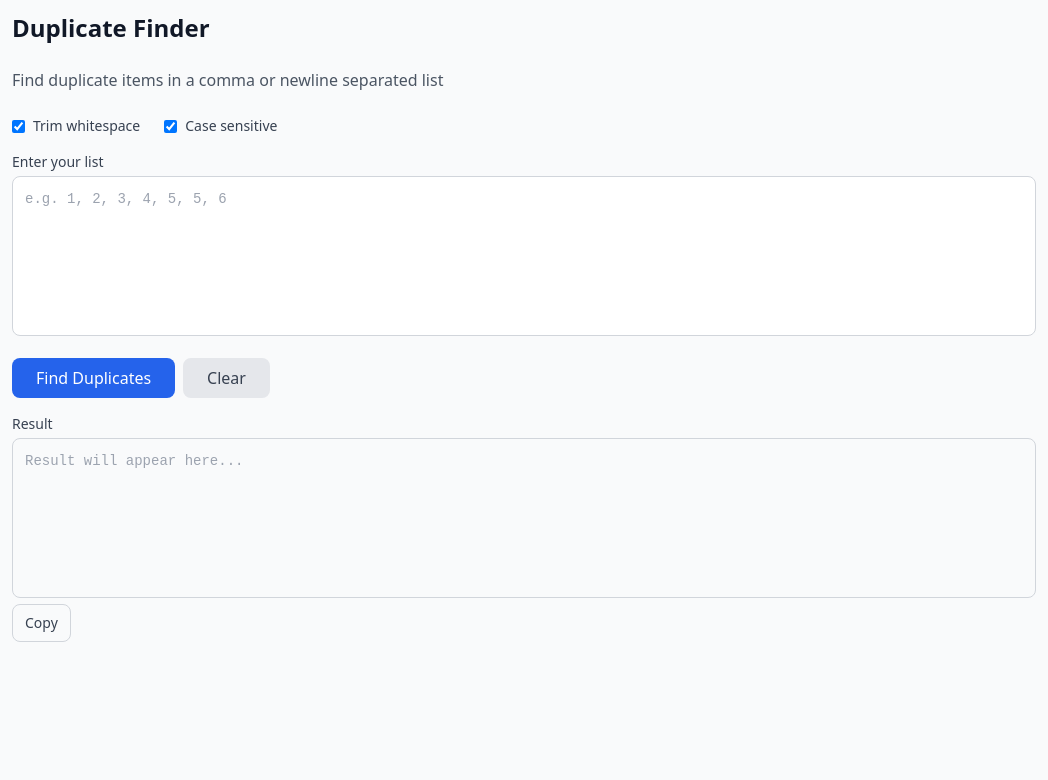
Test: DuplicateFinder › clear button resets input and output
Type "1, 1, 2" into the text box labelled "Enter your list" at point(524, 256), box [12,176,1036,336]
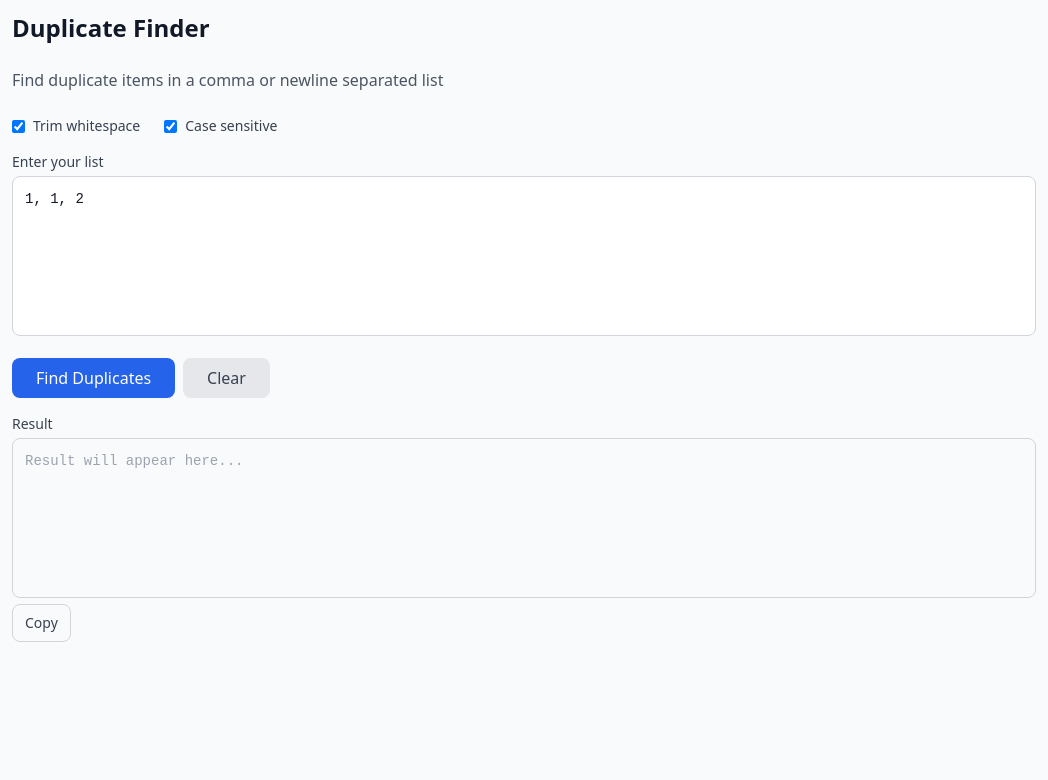
Click the button "Find Duplicates" at point(94, 378), box [12,358,175,398]
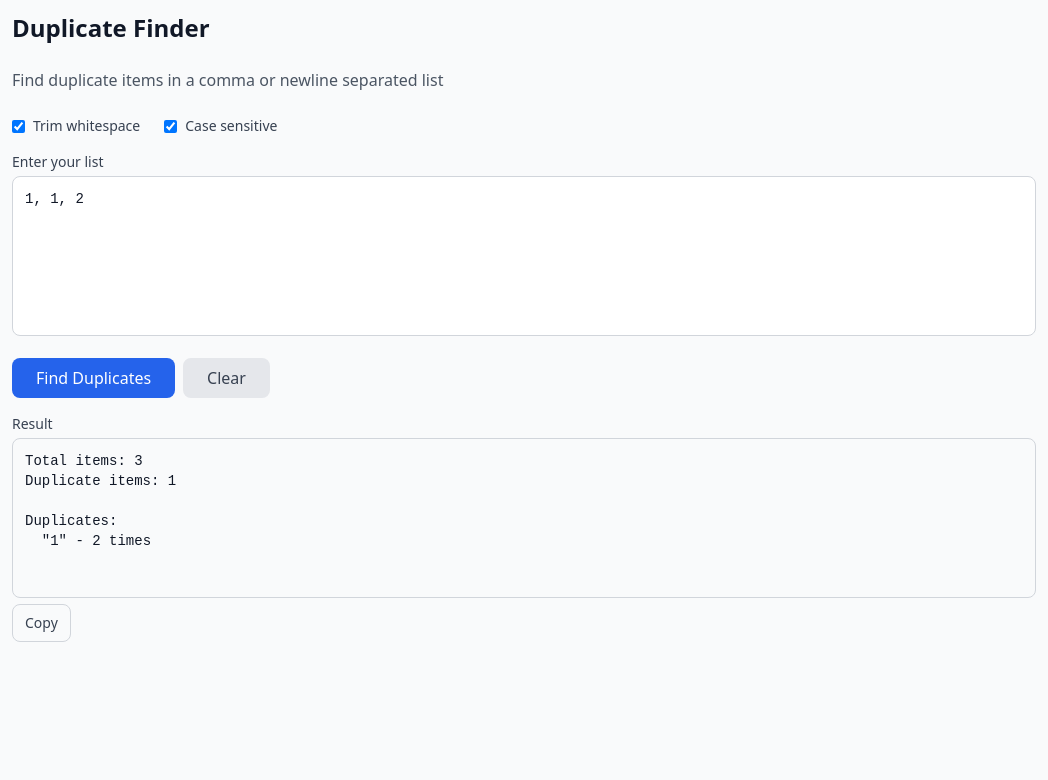
Expected: the text box labelled "Result" is not empty, [12,438,1036,598]
Click the button "Clear" at point(227, 378), box [183,358,270,398]
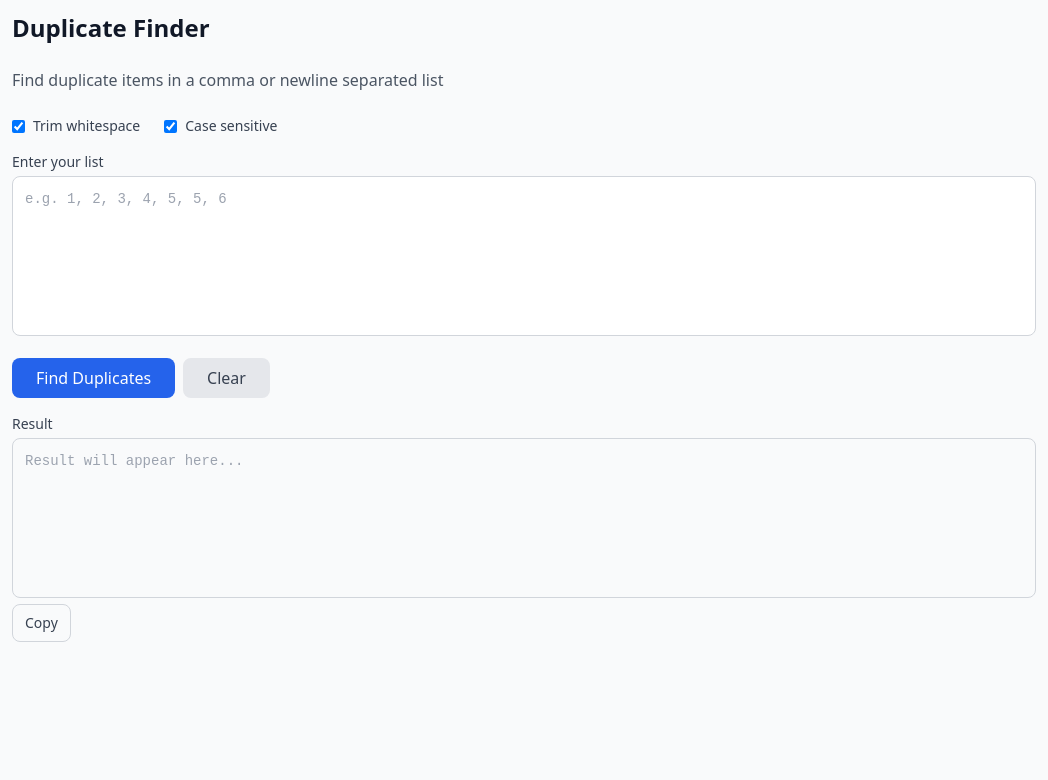
Expected: the text box labelled "Enter your list" is empty, [12,176,1036,336]
Expected: the text box labelled "Result" is empty, [12,438,1036,598]
